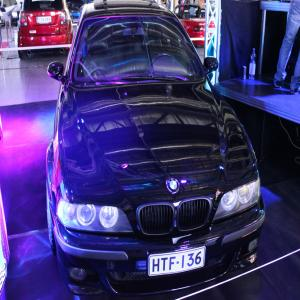Vehicle-registration-plate: (149, 245, 208, 278), (37, 17, 53, 24)
